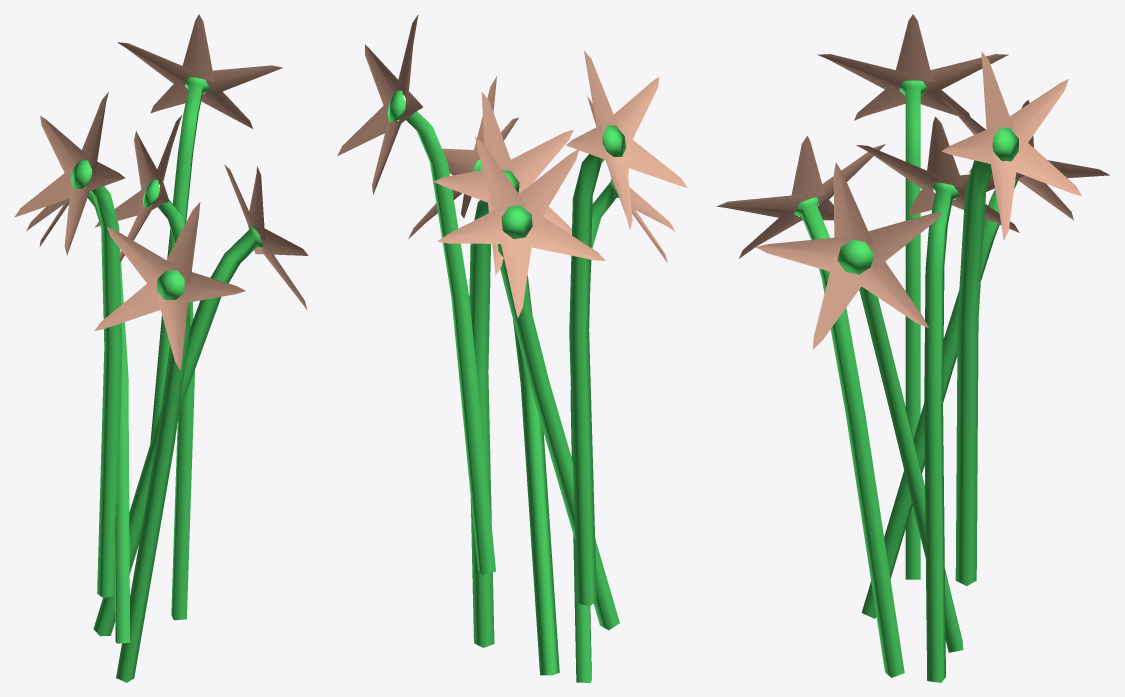
Rendered from Flower_B_2.fbx.
The picture shows the model from 3 angles, left to right: view 1: azimuth 30°, elevation 25°; view 2: azimuth 150°, elevation 25°; view 3: azimuth 270°, elevation 25°; orthographic projection. The views are drawn at different scales.
Parts seen in each view (by area): view 1: Flower_B_2_LOD0; view 2: Flower_B_2_LOD0; view 3: Flower_B_2_LOD0.
Part boxes in pixels (box(x1,y1,x2,y2)): Flower_B_2_LOD0: box(15, 14, 307, 682); Flower_B_2_LOD0: box(337, 14, 687, 682); Flower_B_2_LOD0: box(717, 14, 1109, 682).
Size of what is drawn, in the model's own units: 0.4448 by 1.01 by 0.5302.
